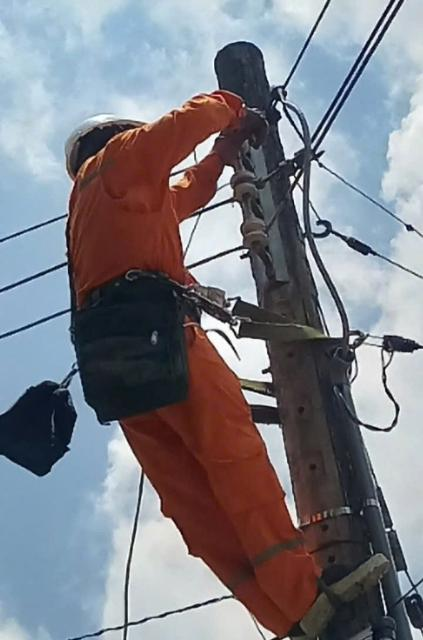gloves: (222, 77, 287, 148), (213, 118, 277, 181)
harness: (48, 264, 254, 338)
helmet: (33, 92, 168, 160)
shoes: (267, 556, 400, 628)
